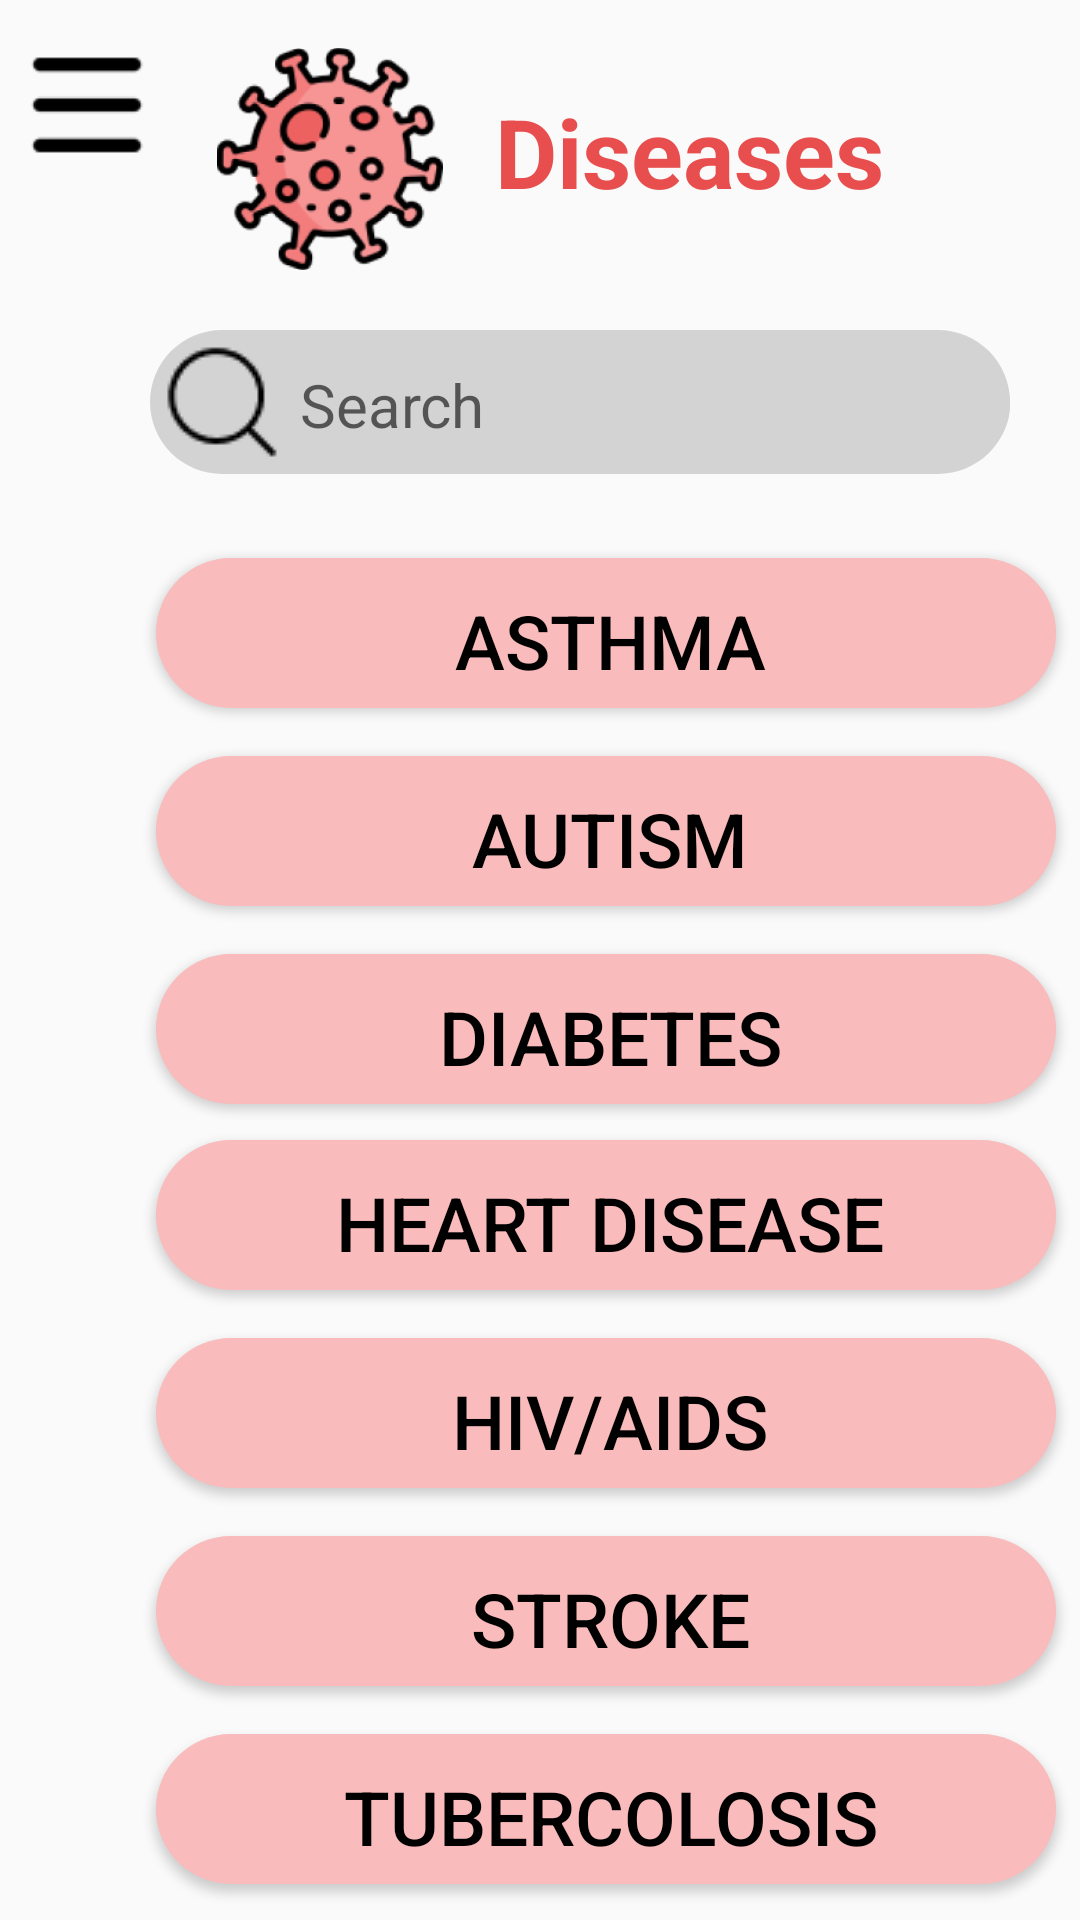

Icon bounding boxes for this 1080px x 1920px phone screenshot, format [x1,y1,x2,y2]:
bars: [32,57,142,153]
